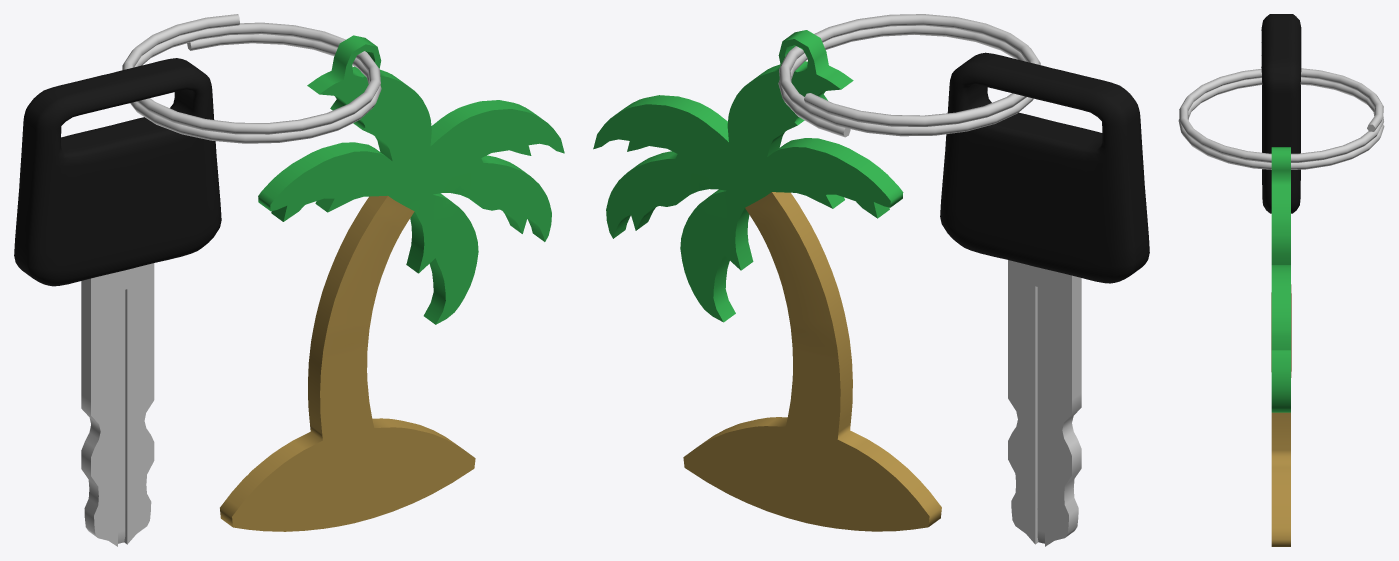
The model's file is keys.fbx.
3 views of the same model, side by side, from view 1: azimuth 30°, elevation 25°; view 2: azimuth 150°, elevation 25°; view 3: azimuth 270°, elevation 25° (orthographic). The views are drawn at different scales.
Visible parts, largest first — view 1: Palm Tree, keys, key ring; view 2: Palm Tree, keys, key ring; view 3: Palm Tree, key ring, keys.
Part boxes in pixels (box(x1,y1,x2,y2)): Palm Tree: box(220, 35, 564, 531); keys: box(14, 58, 221, 546); key ring: box(122, 14, 381, 143); Palm Tree: box(593, 30, 941, 531); keys: box(940, 52, 1149, 546); key ring: box(778, 14, 1040, 137); Palm Tree: box(1271, 147, 1291, 546); key ring: box(1178, 68, 1384, 169); keys: box(1261, 14, 1301, 213).
Bounding box in the file's own units: 242 × 214 × 102.
